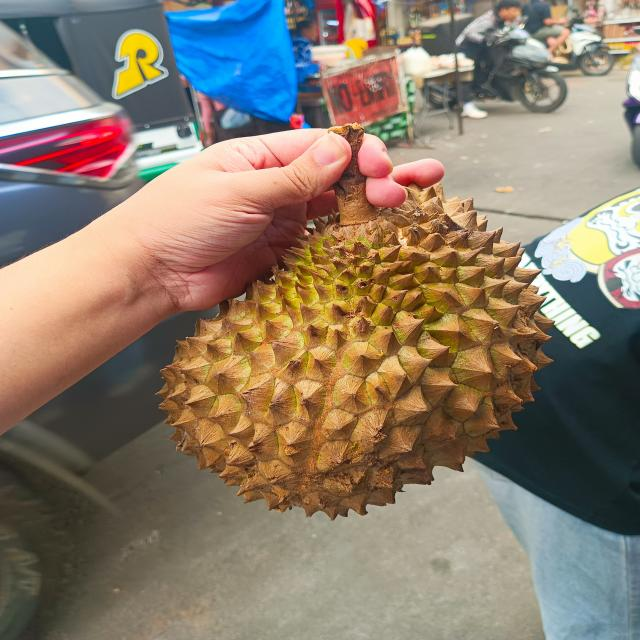mature: (155, 184, 552, 517)
